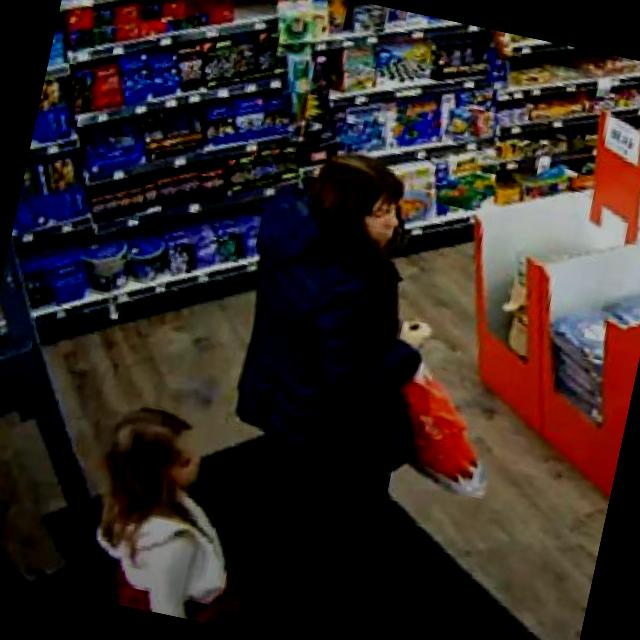Person: (180, 141, 548, 628), (51, 388, 307, 633)
